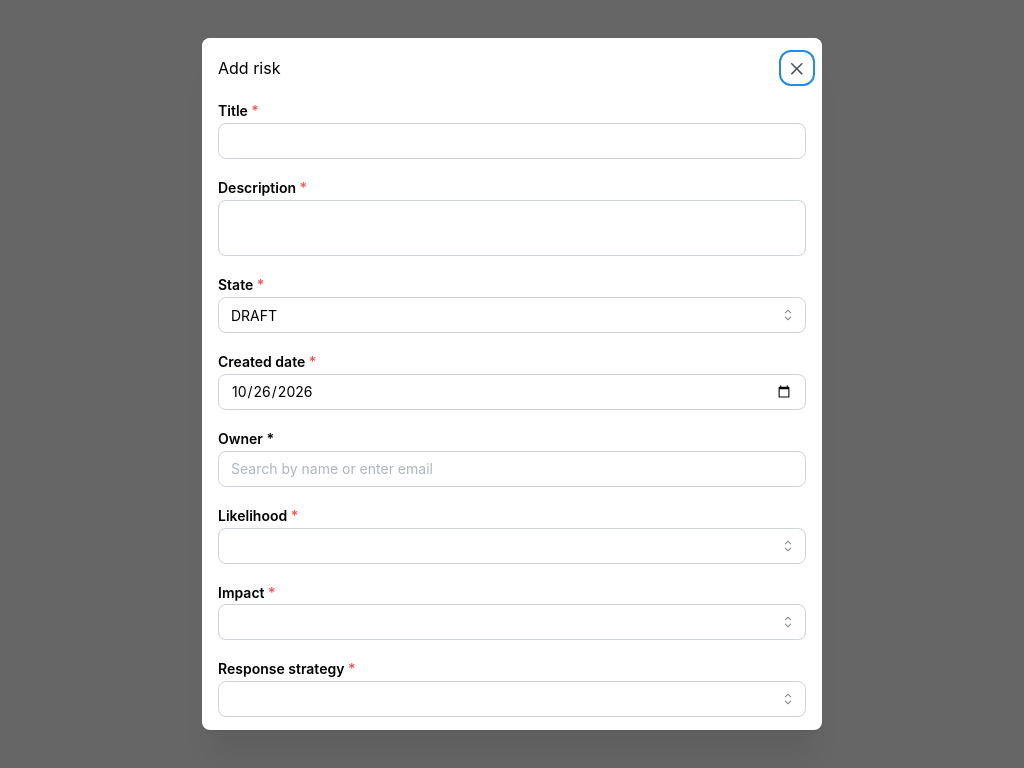
Test: Risk Owner field — email-only mode (PM2-02) › shows a validation error when the owner field is left empty on submit
The image size is (1024, 768).
In the field labelled "Title *": (512, 141) [218,123,806,159], type "Test risk"
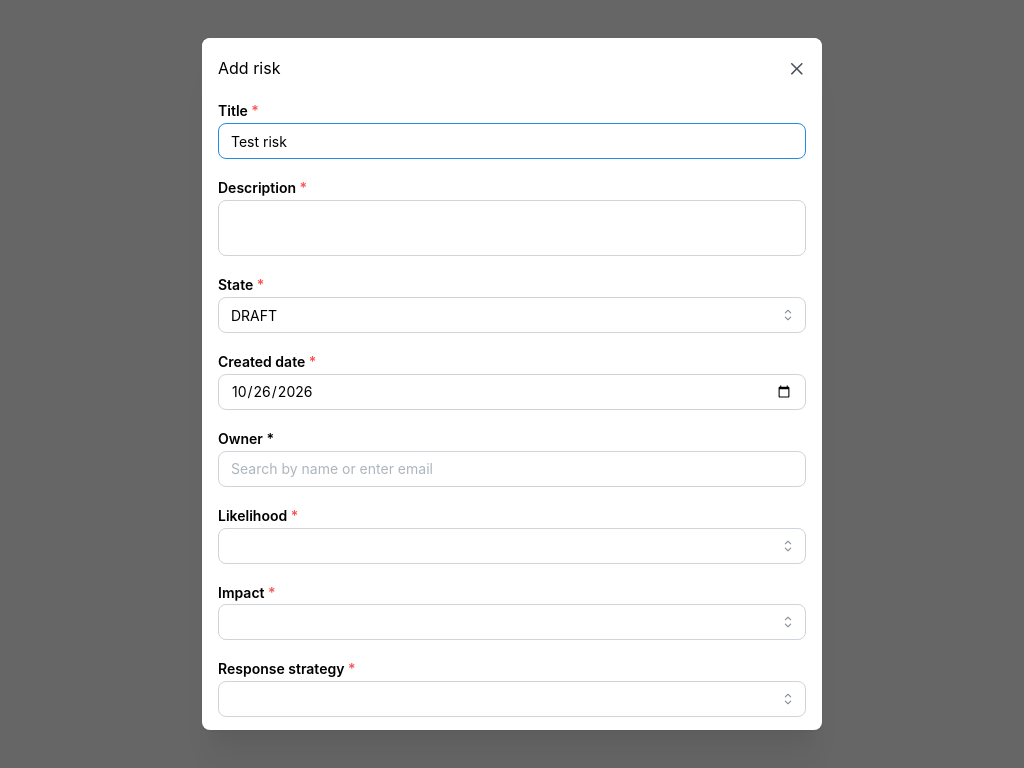
In the text box labelled "Description *": (512, 228) [218,200,806,256], type "A description"
(page scrolled)
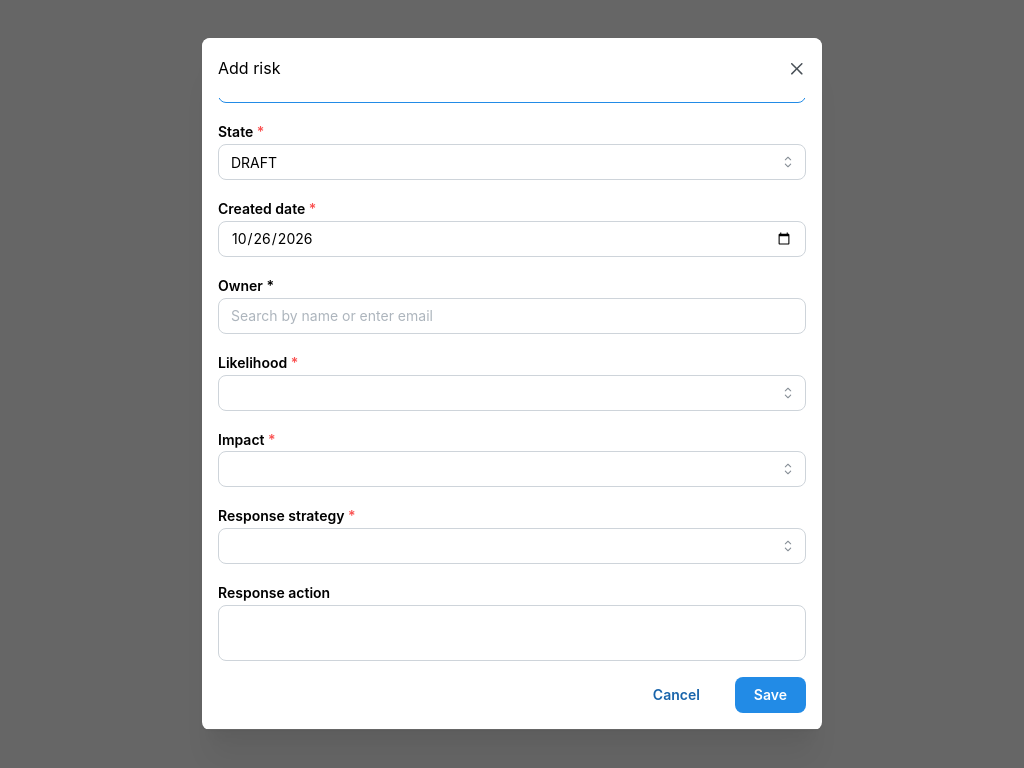
Click the button "Save": (770, 695) [735,677,806,713]
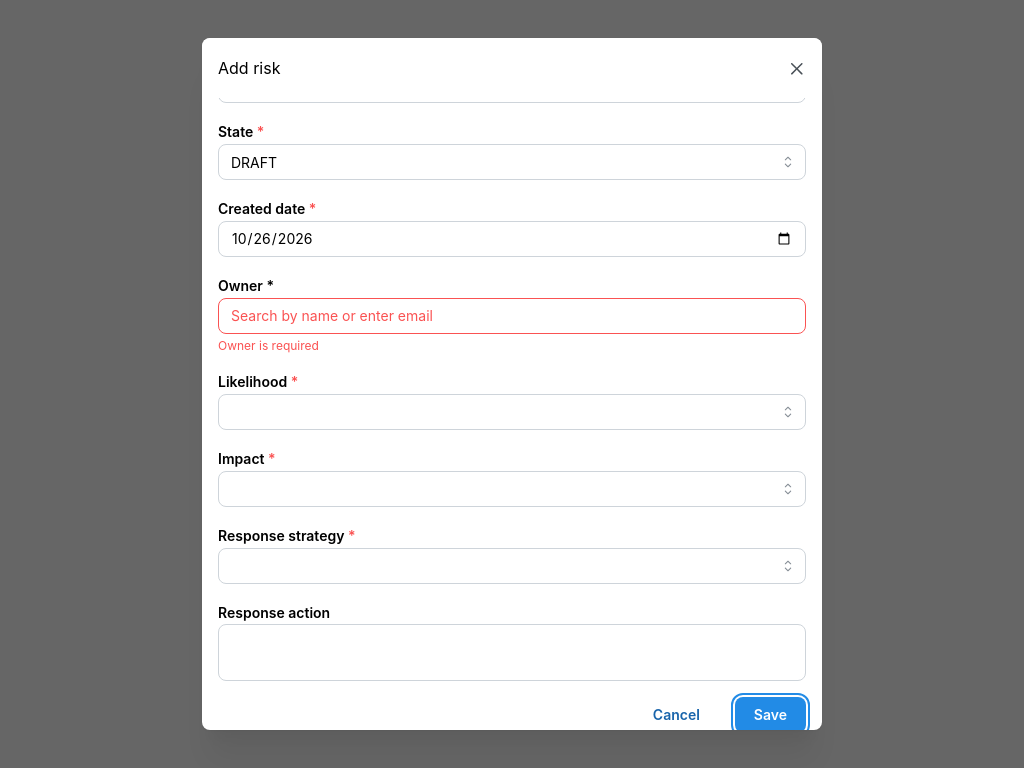
Expected: the text "Owner is required" is shown, [218,338,319,353]
